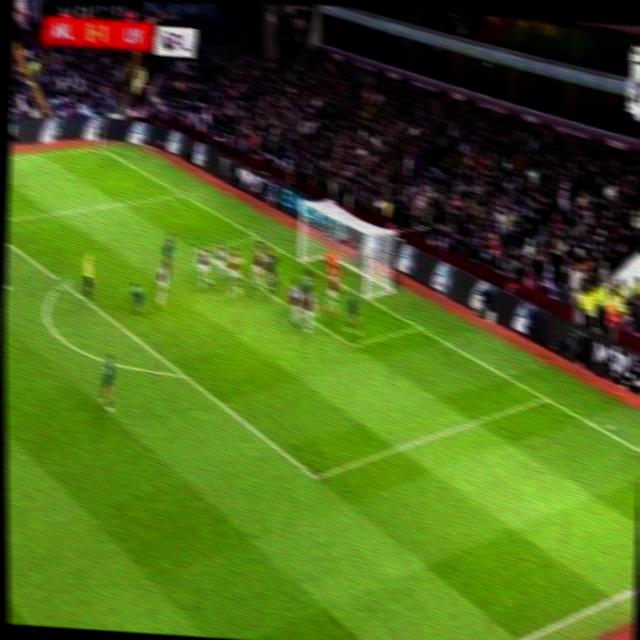bigarea_bottom_inner: (302, 460, 326, 490)
bigarea_bottom_outter: (536, 387, 553, 408)
bigarea_top_outter: (173, 186, 190, 203)
bottom_arc_area_intersection: (172, 361, 193, 385)
corner: (89, 141, 110, 155)
smallarea_bottom_inner: (342, 331, 361, 354)
smallarea_bottom_outter: (406, 314, 425, 334)
smallarea_top_inner: (189, 238, 206, 257)
smallarea_top_outter: (247, 226, 265, 245)
top_arc_area_intersection: (52, 271, 74, 294)
